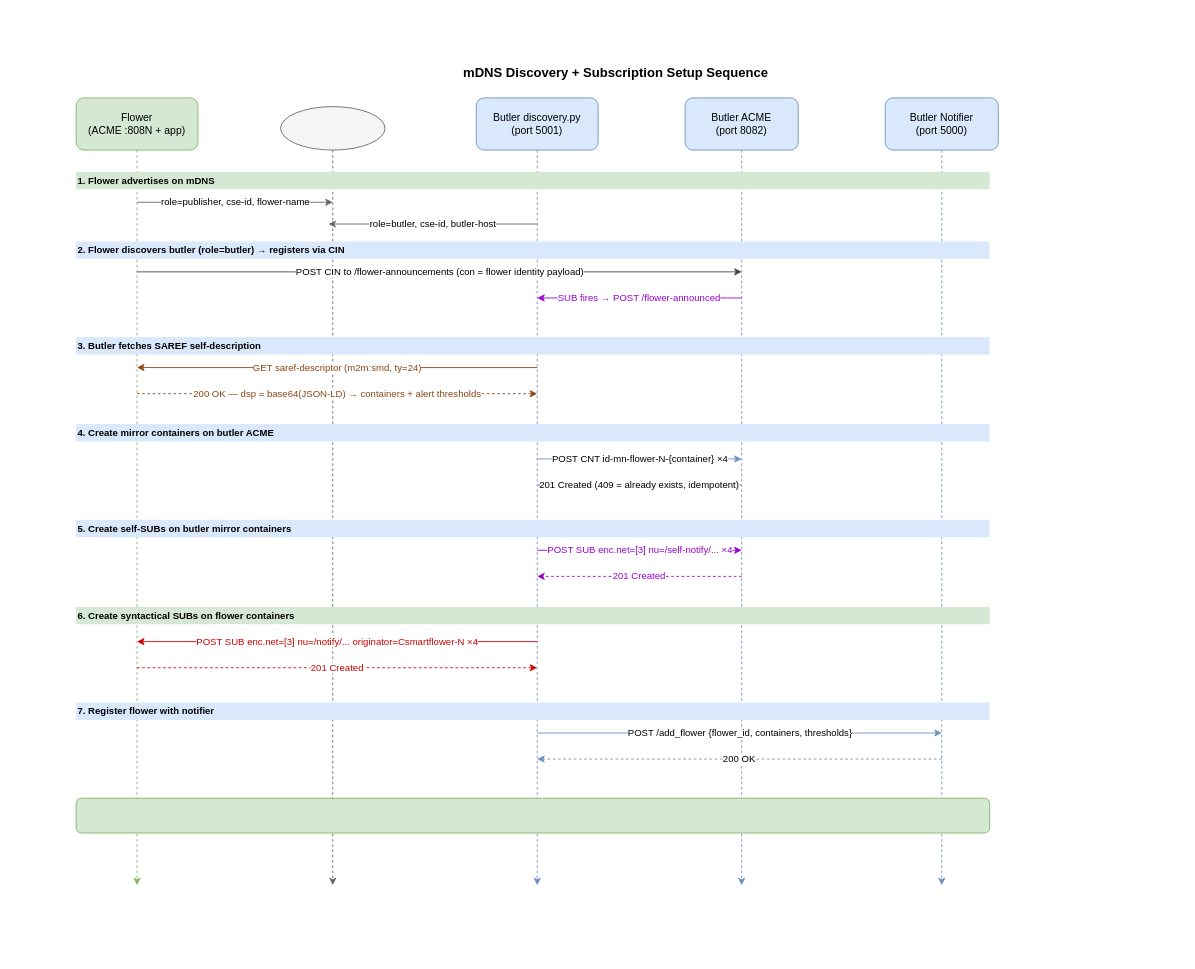
Image size: 1195x969. Some labels were removed from this diagram. Here are the shapes that lost their labels. From the top down, the centre of each, then its label:
(x=332, y=128): mDNS / LAN
(x=532, y=815): ✓ System operational — sensor data flows to dashboard and Telegram alerts
